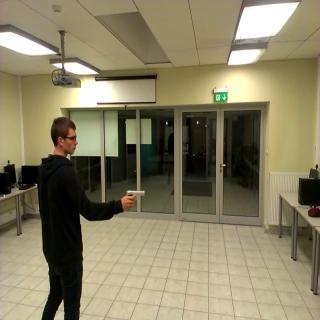gun: (119, 184, 145, 208)
